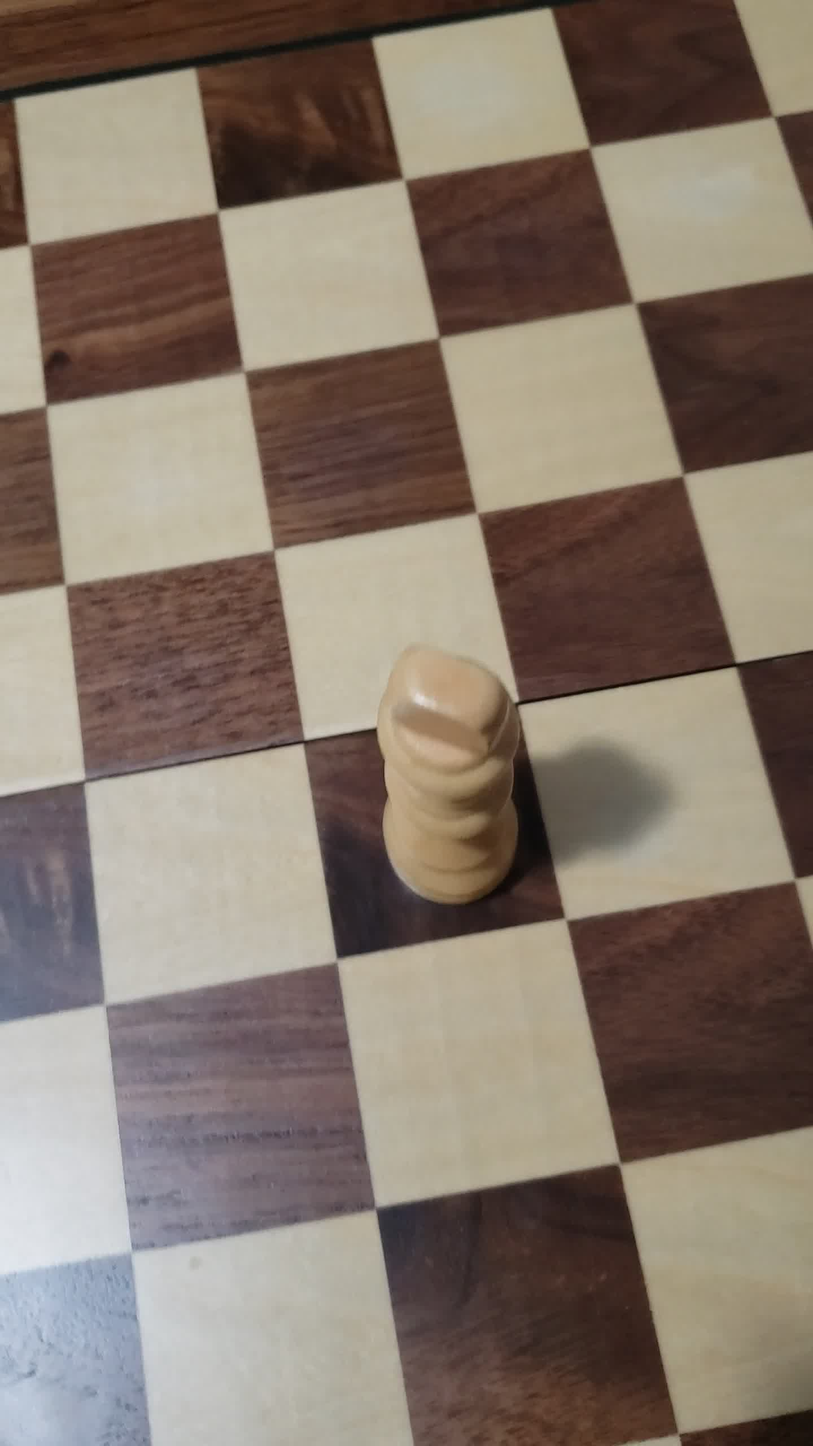white-king: (350, 636, 559, 942)
